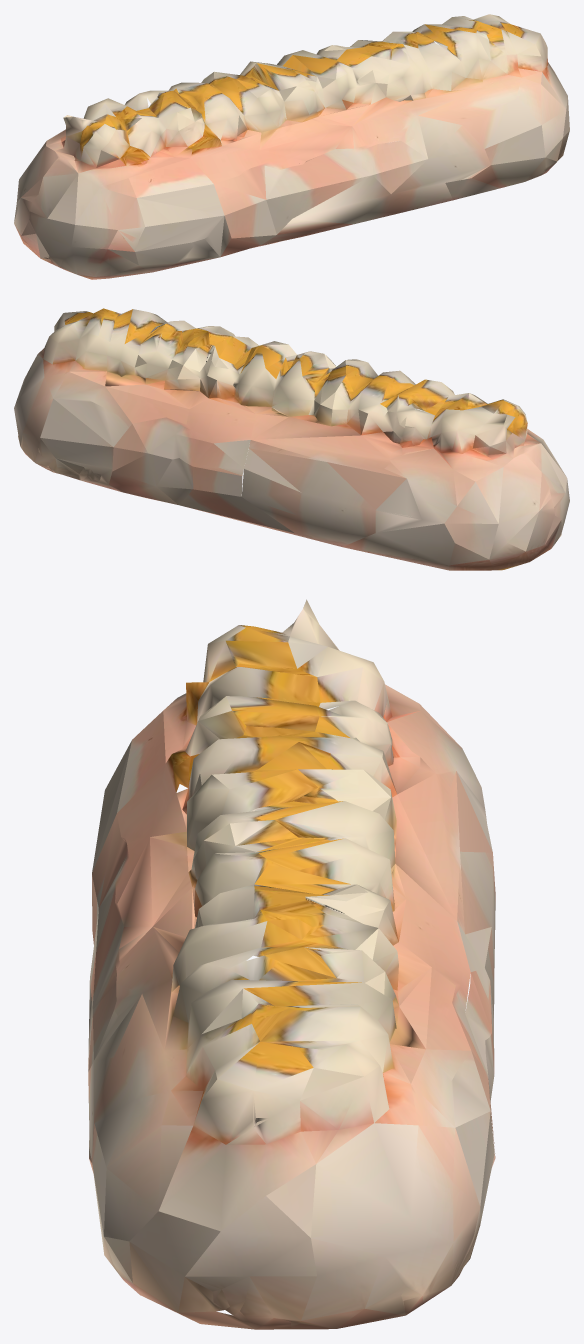
Rendered from 13_2_sy_ecla_sculpture.glb.
3 views of the same model, one above another, from view 1: azimuth 30°, elevation 25°; view 2: azimuth 150°, elevation 25°; view 3: azimuth 270°, elevation 25° (orthographic). The views are drawn at different scales.
Parts seen in each view (by area): view 1: tripo_material_b94eee81-8f22-4418-8e19-ea19924fffb3; view 2: tripo_material_b94eee81-8f22-4418-8e19-ea19924fffb3; view 3: tripo_material_b94eee81-8f22-4418-8e19-ea19924fffb3.
Part boxes in pixels (left/top/right/bottom): tripo_material_b94eee81-8f22-4418-8e19-ea19924fffb3: left=14, top=14, right=569, bottom=279; tripo_material_b94eee81-8f22-4418-8e19-ea19924fffb3: left=14, top=308, right=569, bottom=570; tripo_material_b94eee81-8f22-4418-8e19-ea19924fffb3: left=88, top=599, right=495, bottom=1329.
Bounding box in the file's own units: 0.1249 × 0.0329 × 0.0419.
Materials: 1 (1 with a texture image).
